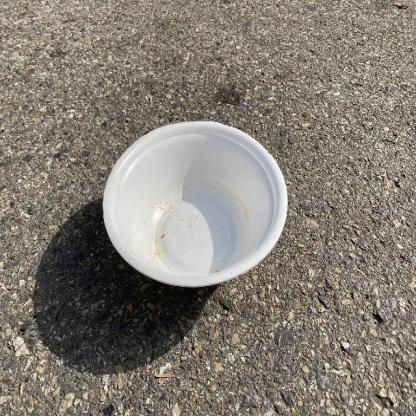Glass Cup: (102, 121, 288, 287), (103, 120, 287, 287)
